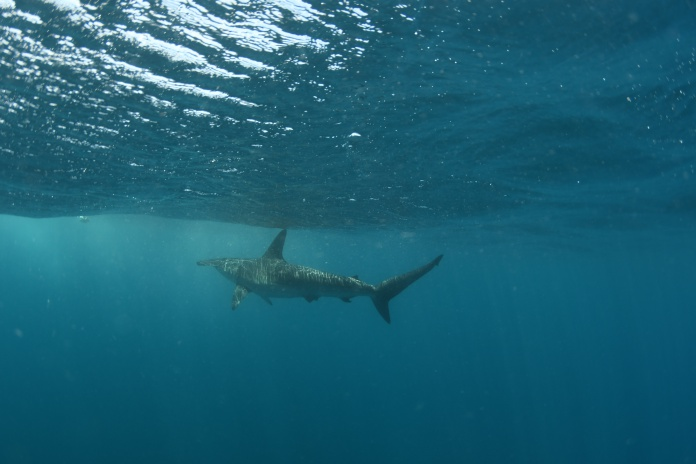Hammer: (190, 205, 452, 339)
